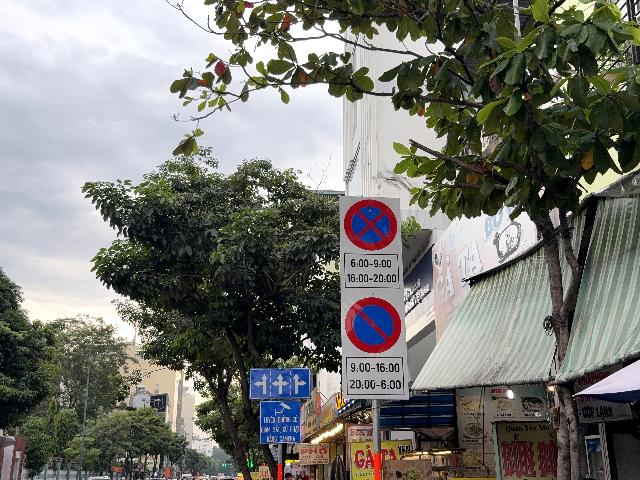cam-do-xe: (344, 295, 403, 355)
cam-dung-va-do-xe: (344, 198, 397, 251)
